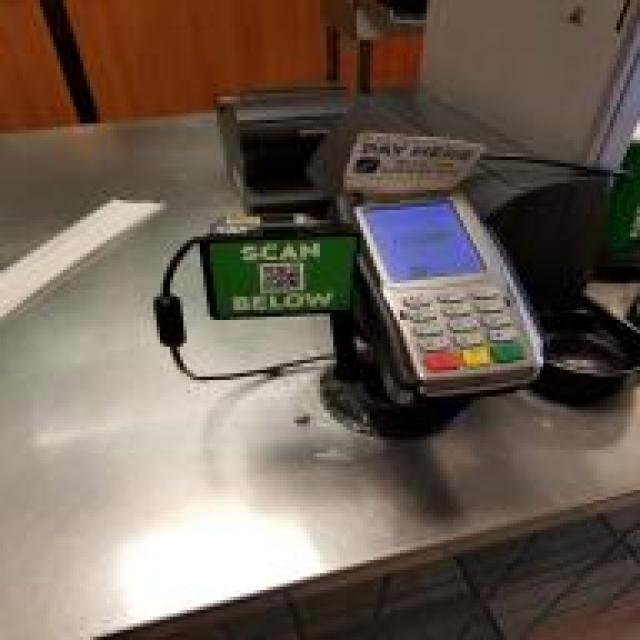QR_CODE: (253, 260, 310, 297)
